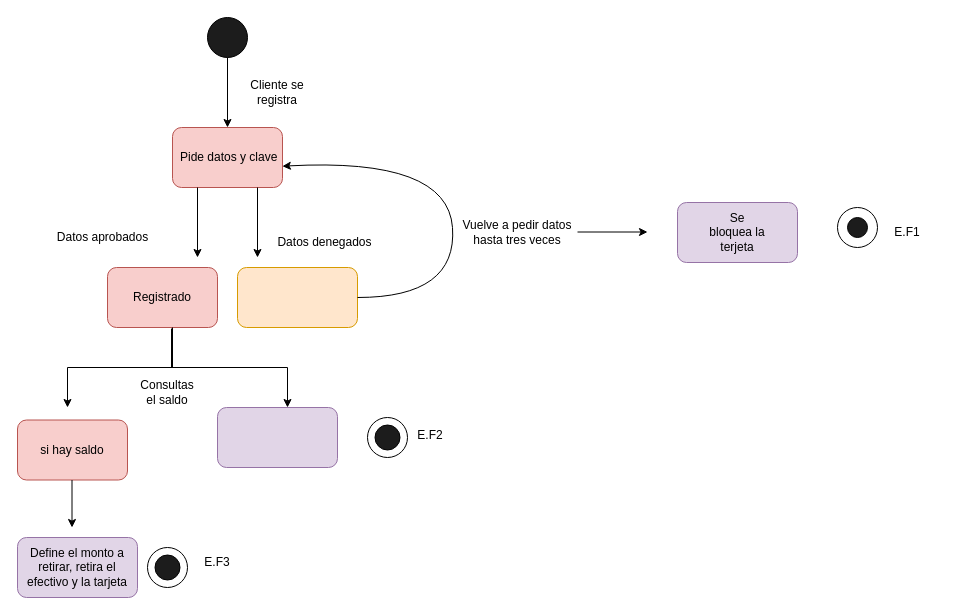
The diagram is 955 pixels wide and 615 high, and some of its shapes have lost their labels. Here are the shapes that lost their labels. From the top down, the centre of each, then its label:
At (297,297): "Rechazado".
At (277,437): "No hay saldo".
